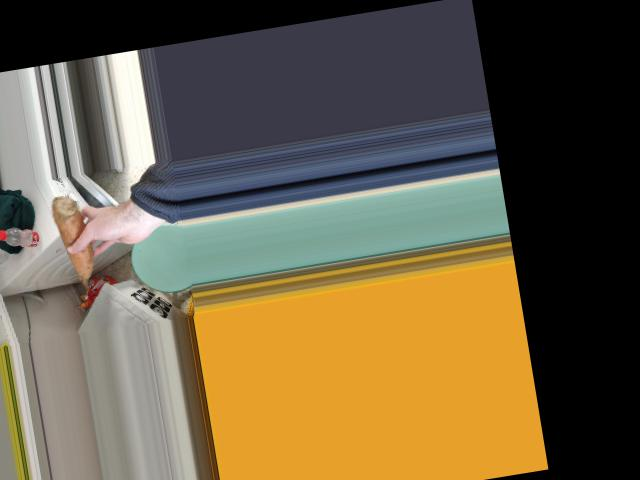sweet_potato: (57, 192, 95, 285)
